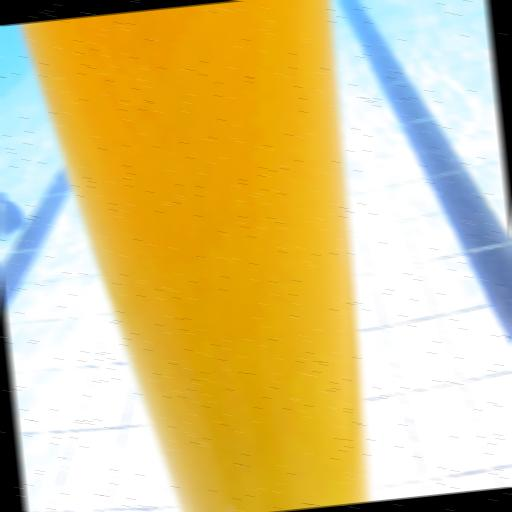pole_gate: (13, 0, 384, 512)
